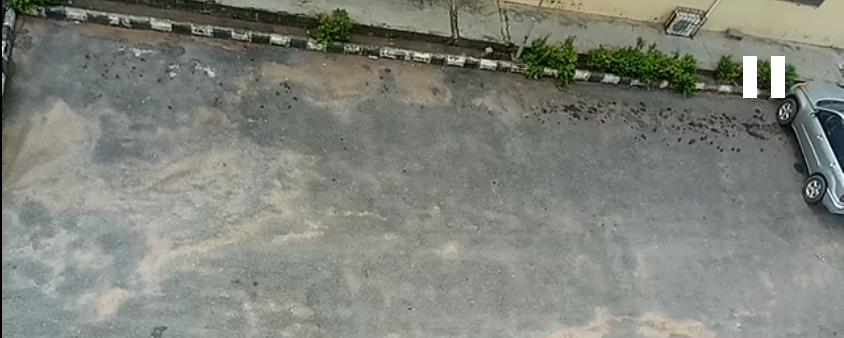four: (585, 45, 704, 231)
one: (1, 1, 157, 212)
three: (389, 40, 525, 233)
two: (227, 8, 353, 216)
